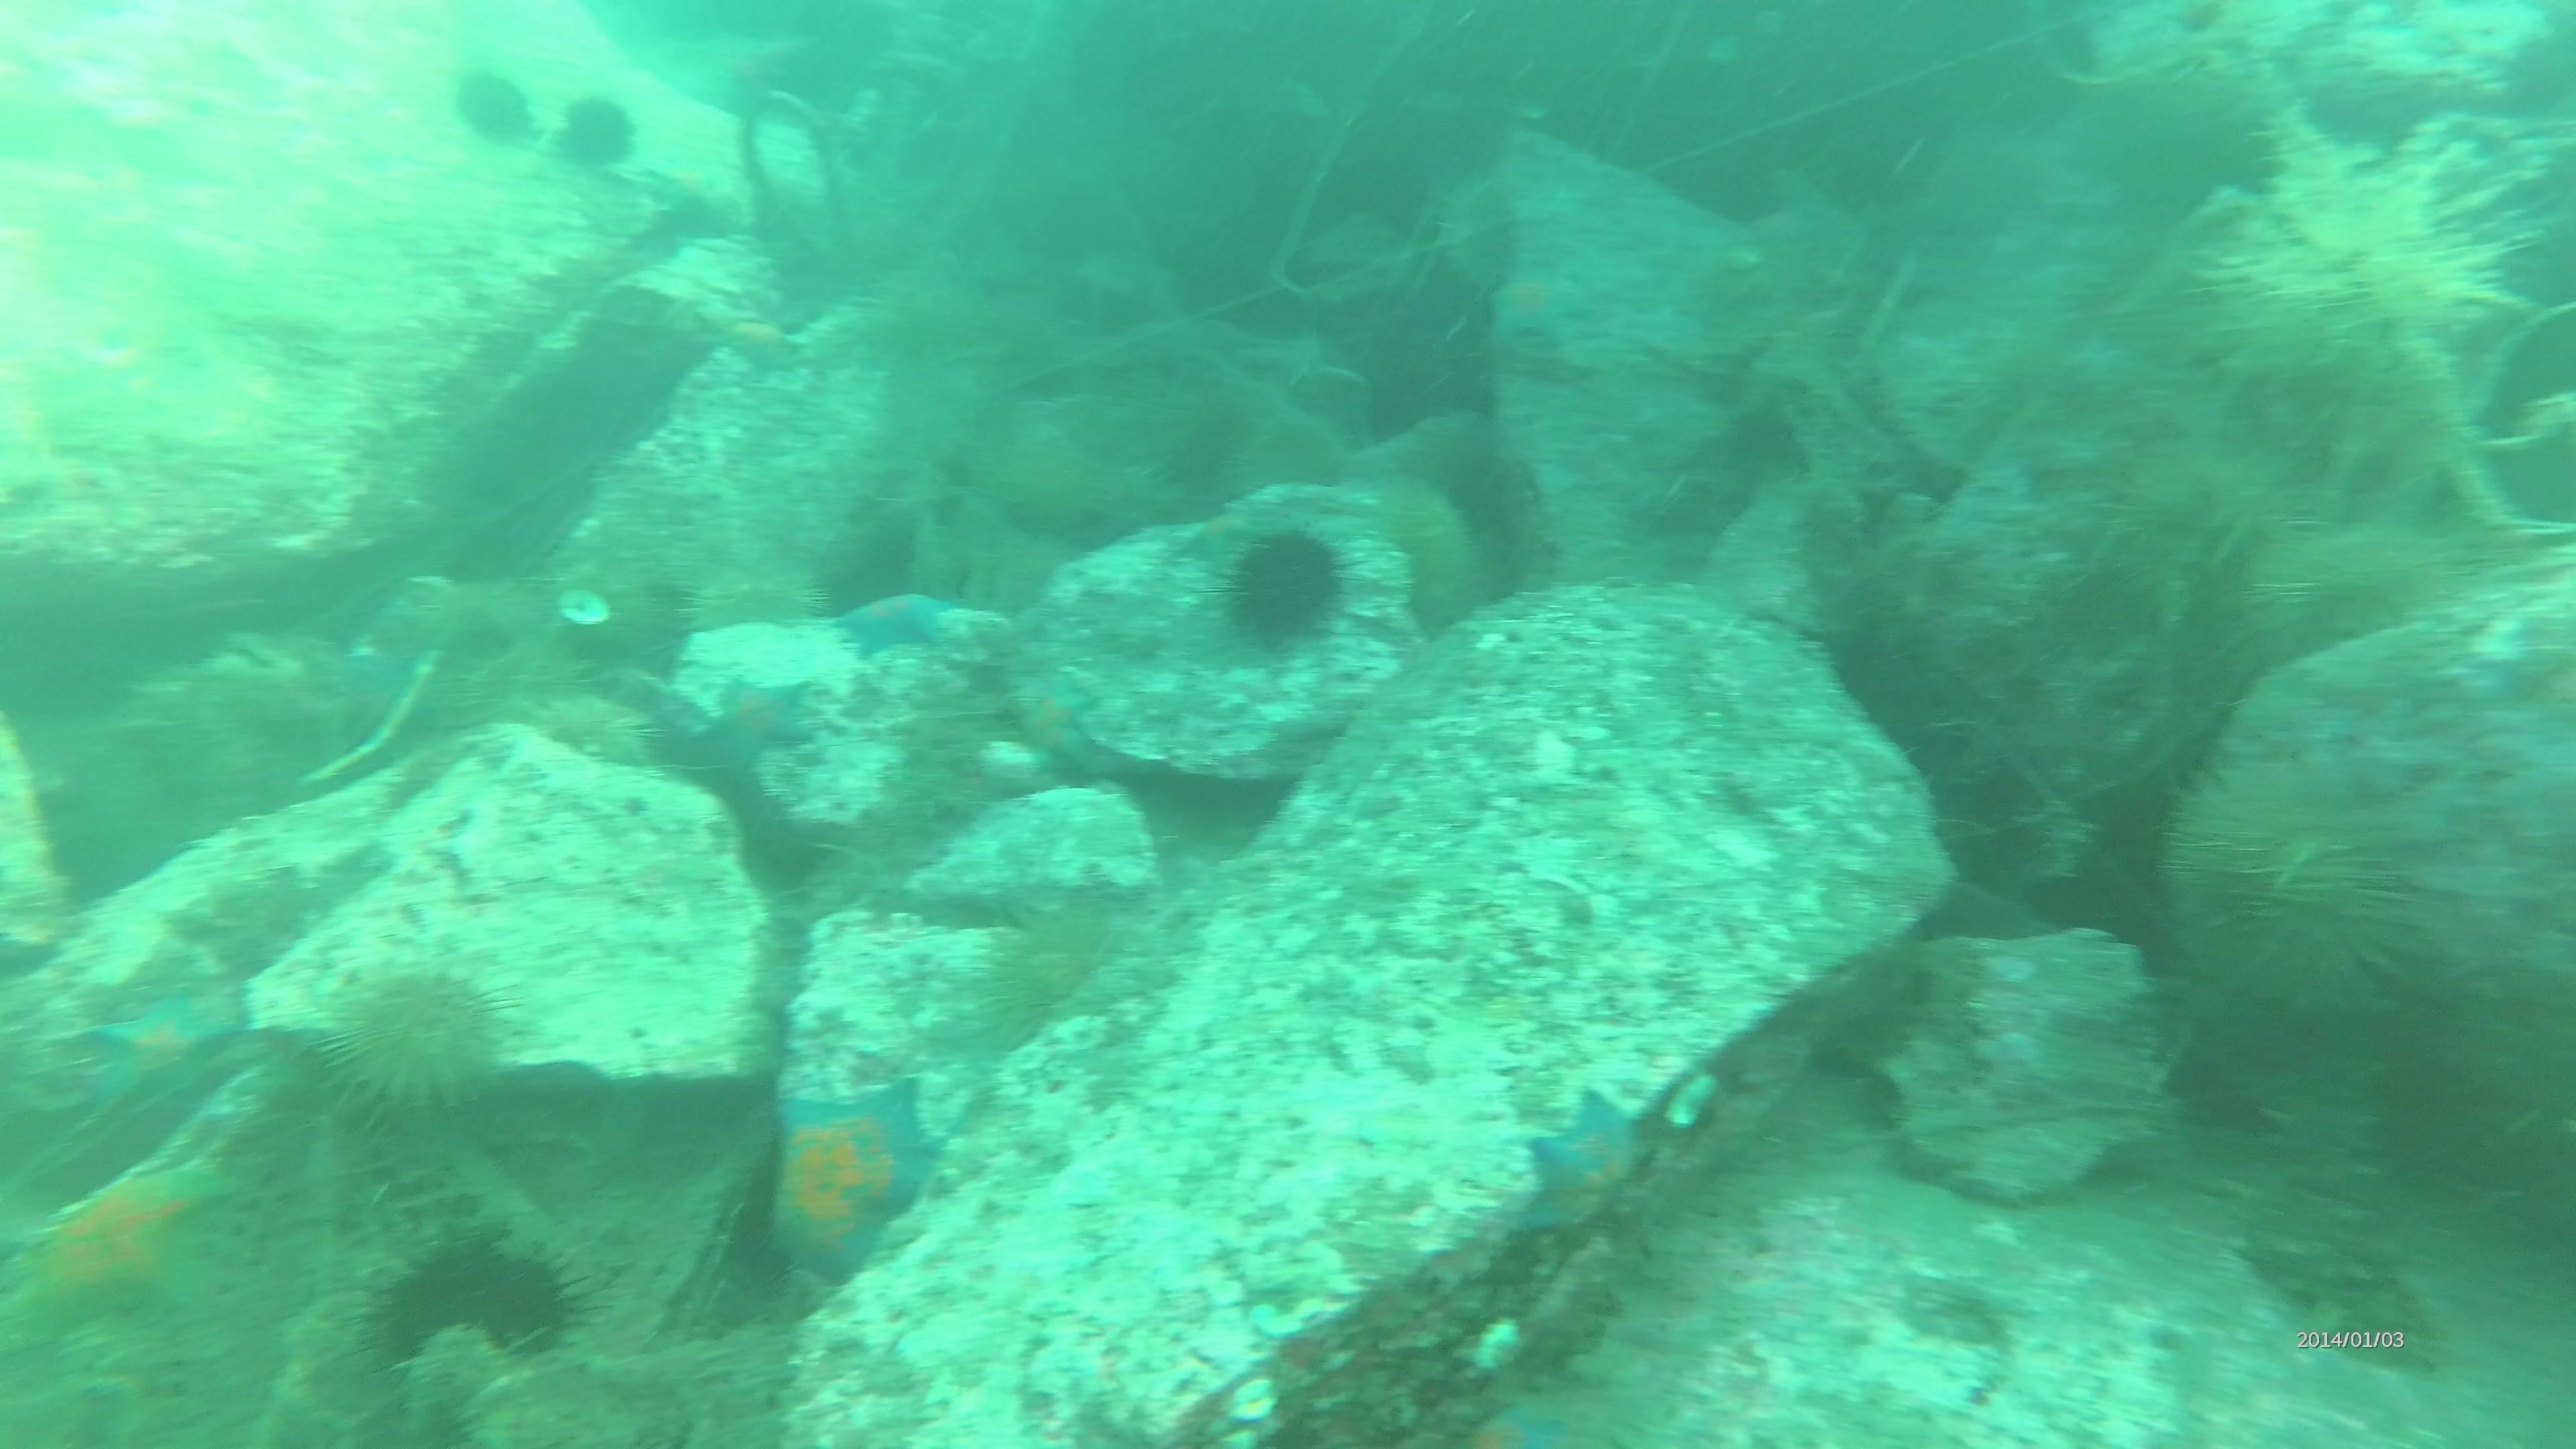echinus: (2185, 150, 2521, 418), (2158, 750, 2461, 1030), (2068, 62, 2286, 230), (357, 1223, 591, 1369), (2250, 504, 2473, 655), (313, 955, 518, 1116), (2125, 435, 2321, 589), (966, 897, 1127, 1053), (1212, 518, 1357, 655), (524, 685, 663, 778), (548, 88, 644, 180), (446, 62, 540, 154)
starfish: (12, 1152, 235, 1339), (757, 1070, 945, 1292), (74, 975, 242, 1120), (1514, 1081, 1660, 1247), (697, 669, 824, 773), (1483, 251, 1591, 356), (828, 586, 970, 662), (1003, 667, 1106, 770), (612, 147, 738, 225), (709, 306, 810, 380)
